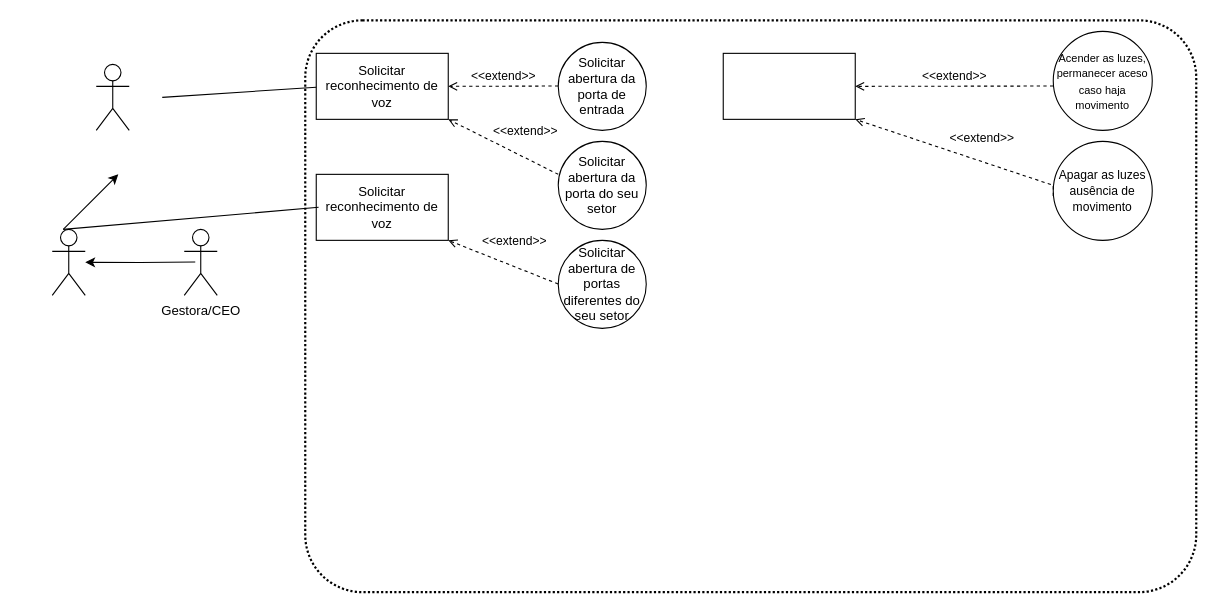
Image size: 1217x612. Some labels were removed from this diagram. Each missing label, with the centre of its shape:
"Funcionária PCD" goes at point 68,261.
"Funcionários" goes at point 112,96.
"Verificar sensor de movimento" goes at point 788,85.
